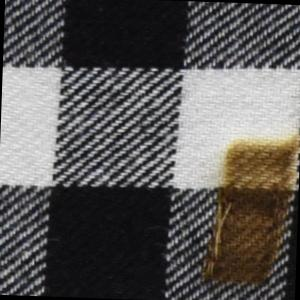Oil Stain: (200, 132, 300, 289)
